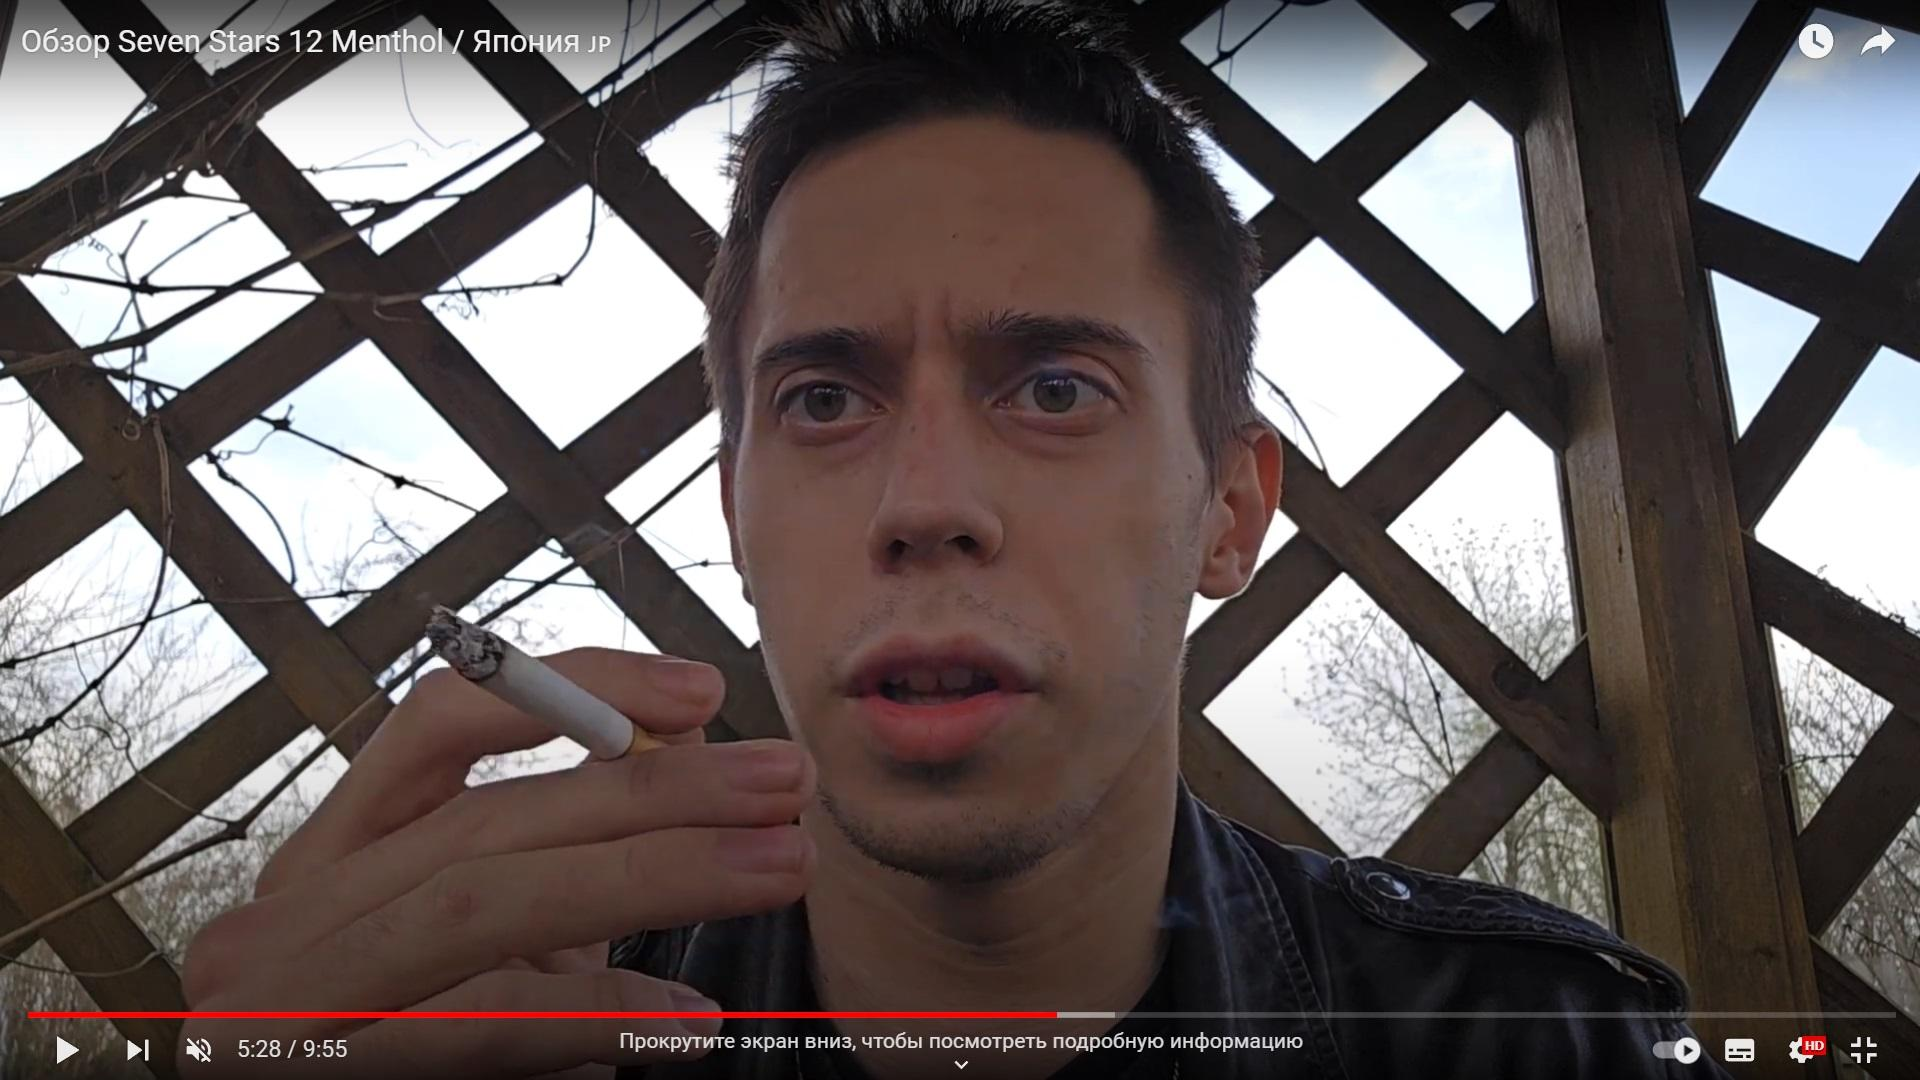cigarette: (425, 605, 675, 761)
